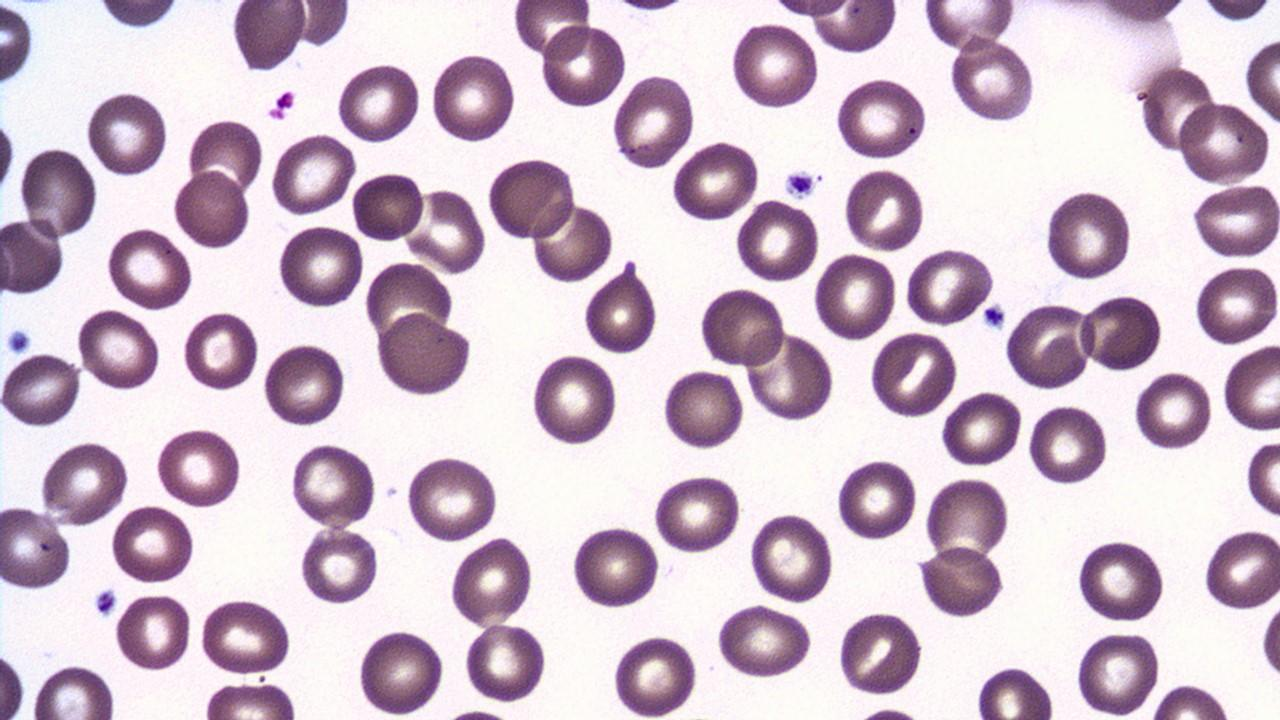Platelets: (93, 1, 185, 30), (782, 166, 820, 200), (270, 86, 299, 122), (4, 326, 34, 358), (93, 586, 118, 618), (980, 304, 1008, 329)
RBC: (742, 326, 836, 425), (1042, 186, 1134, 285), (608, 71, 697, 173), (403, 452, 501, 544), (528, 350, 619, 449), (429, 48, 518, 146), (37, 436, 131, 528), (274, 220, 366, 314), (354, 624, 446, 718), (728, 18, 820, 112), (363, 258, 456, 350), (374, 311, 473, 397), (568, 522, 662, 612), (1074, 534, 1168, 624), (1176, 98, 1272, 186), (832, 76, 930, 162), (835, 607, 925, 700), (748, 509, 835, 605), (196, 594, 294, 679), (714, 600, 815, 682), (1073, 626, 1163, 718), (866, 330, 958, 420), (17, 142, 99, 242), (947, 36, 1038, 126), (286, 440, 378, 529), (83, 86, 170, 180), (447, 534, 534, 628), (812, 250, 898, 345), (1002, 299, 1092, 389), (104, 224, 194, 314), (610, 630, 702, 718), (922, 474, 1010, 566), (269, 129, 358, 219), (261, 338, 348, 430), (902, 244, 996, 329), (651, 470, 743, 556), (484, 156, 574, 243), (539, 20, 626, 110), (75, 304, 162, 394), (154, 424, 244, 510), (581, 258, 659, 357), (660, 366, 748, 453), (335, 59, 422, 146), (528, 197, 614, 285), (1025, 400, 1111, 488), (842, 164, 926, 254), (404, 184, 486, 276), (698, 284, 785, 370), (733, 197, 819, 284), (462, 619, 549, 705), (1193, 261, 1279, 348), (109, 500, 196, 586), (834, 455, 919, 543), (670, 140, 760, 223), (1137, 62, 1217, 154), (1189, 181, 1279, 262), (1078, 290, 1164, 374), (938, 386, 1024, 470), (1199, 524, 1279, 614), (1132, 367, 1214, 454), (112, 588, 193, 676), (916, 542, 1006, 620), (0, 501, 74, 595), (172, 166, 252, 252), (297, 525, 380, 606), (187, 114, 265, 200), (182, 308, 259, 394), (0, 350, 81, 428), (229, 0, 308, 75), (351, 167, 426, 245), (0, 212, 67, 298), (29, 658, 120, 720), (1221, 340, 1279, 434), (511, 0, 593, 63), (806, 1, 898, 57), (920, 1, 1017, 53), (972, 662, 1056, 718), (197, 678, 308, 718), (1244, 32, 1280, 126), (0, 2, 37, 90), (291, 0, 353, 50), (1245, 436, 1280, 522), (93, 1, 184, 30), (1257, 588, 1279, 696), (0, 637, 28, 719), (1198, 1, 1278, 23), (0, 105, 17, 203), (770, 0, 850, 19)
WBC: (90, 2, 186, 32)
